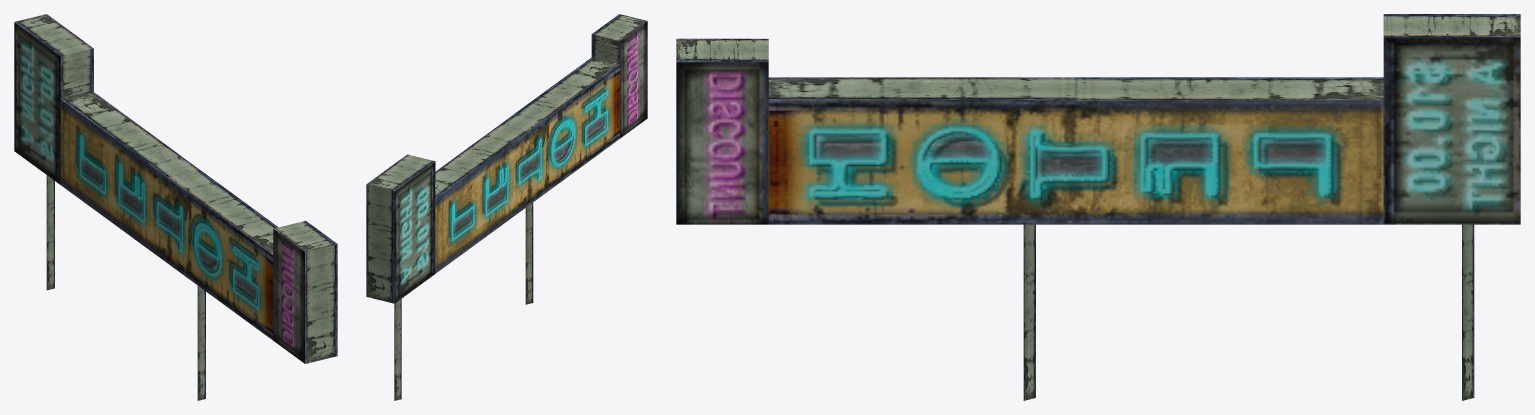
File: hotel_seedy.fbx
3 renders of one model, left to right at view 1: azimuth 30°, elevation 25°; view 2: azimuth 150°, elevation 25°; view 3: azimuth 270°, elevation 25°, orthographic. The views are drawn at different scales.
Visible parts, largest first — view 1: mesh_0; view 2: mesh_0; view 3: mesh_0.
Part boxes in pixels (x1,y1,x2,y2): mesh_0: (14,14,337,400); mesh_0: (366,14,647,400); mesh_0: (676,14,1520,400).
Bounding box in the file's own units: 20 × 150 × 308.
Materials: 1 (1 with a texture image).
